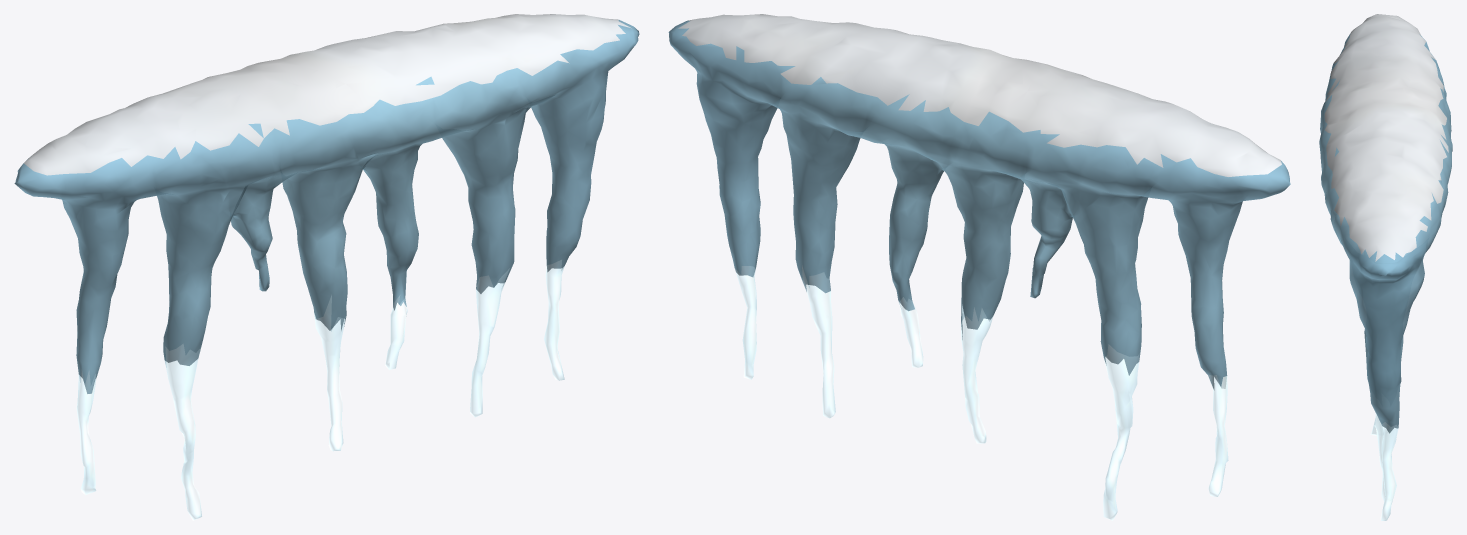
The model's file is frost_icicle_cluster.glb.
3 renders of one model, left to right at view 1: azimuth 30°, elevation 25°; view 2: azimuth 150°, elevation 25°; view 3: azimuth 270°, elevation 25°, orthographic. The views are drawn at different scales.
Parts seen in each view (by area): view 1: frost_icicle_cluster; view 2: frost_icicle_cluster; view 3: frost_icicle_cluster.
Boxes of the visible parts, x1=… form: frost_icicle_cluster: x1=14, y1=14, x2=639, y2=520; frost_icicle_cluster: x1=668, y1=14, x2=1290, y2=520; frost_icicle_cluster: x1=1319, y1=14, x2=1452, y2=520.
Bounding box in the file's own units: 12.17 × 8.01 × 2.67.
